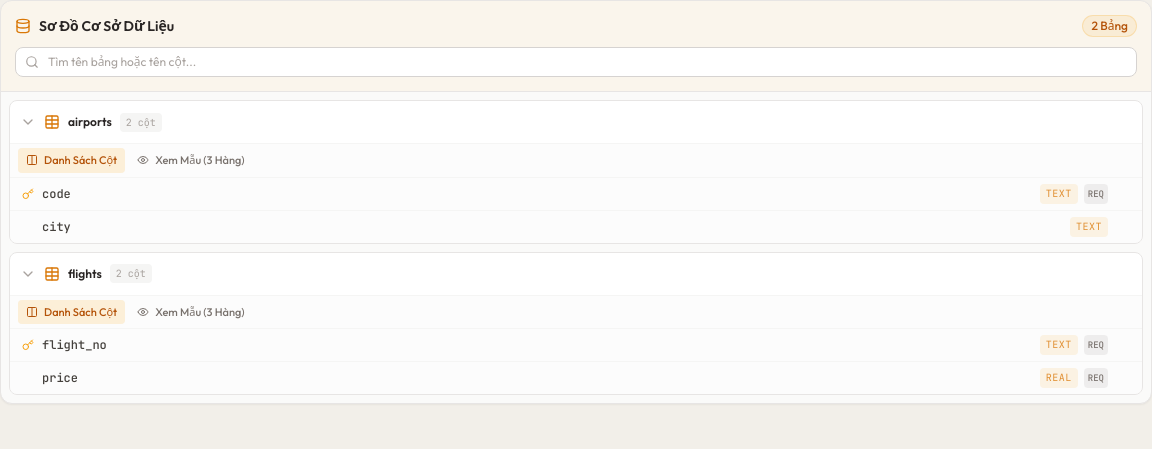
Test: SchemaBrowser Component — Step 4.2 › chuyển đổi giữa tab "Danh Sách Cột" và "Xem Mẫu (3 Hàng)"
This screenshot has width=1152, height=449.
Click the 1st button "Xem Mẫu (3 Hàng)". click: (191, 160)
box: 129,148 -> 253,172
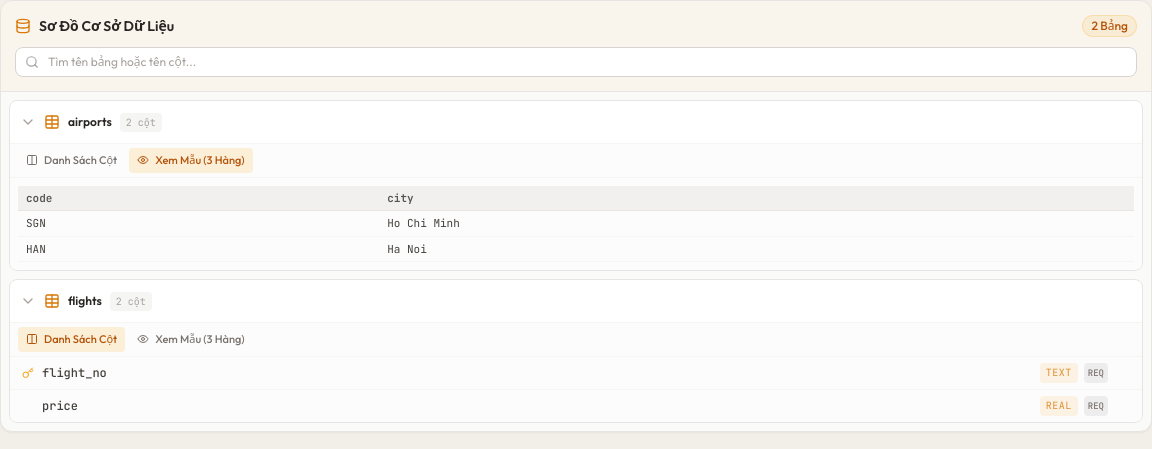
Now the text "Ho Chi Minh" is shown, box 379,210 -> 1134,236
Now the text "Ha Noi" is shown, box 379,236 -> 1134,262
